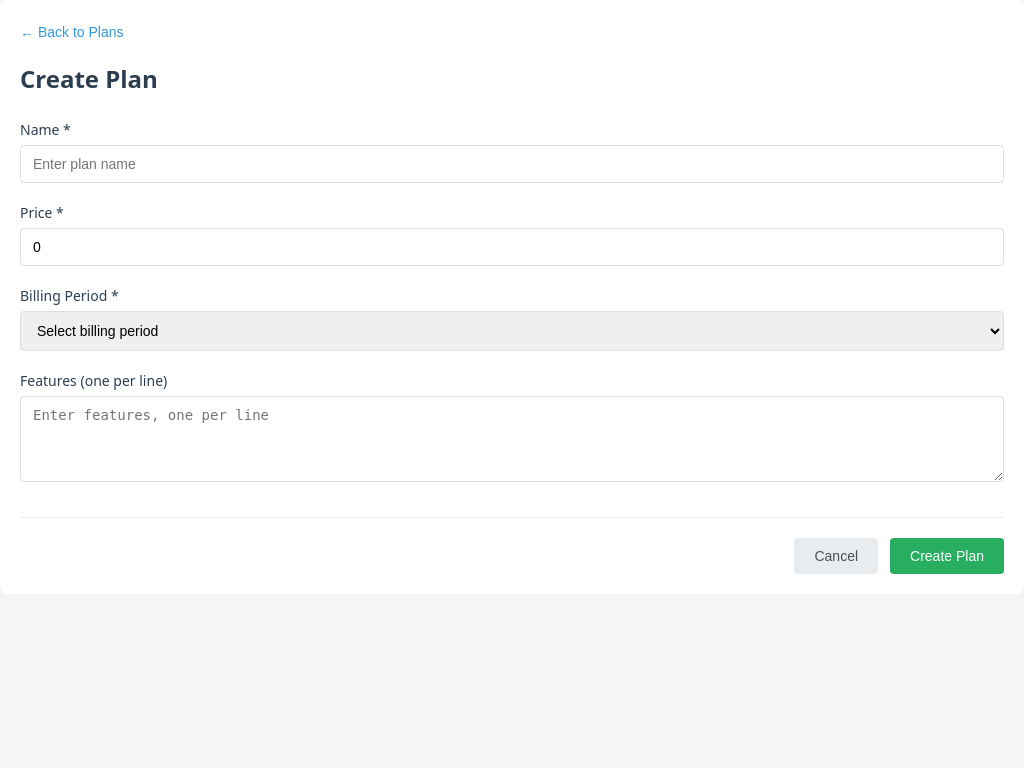
Test case: PlanForm.vue › Common functionality › displays error message on submit failure
Type "New Plan" into the field with test id "plan-name" at coordinates (512, 164), box 20,145 -> 1004,183
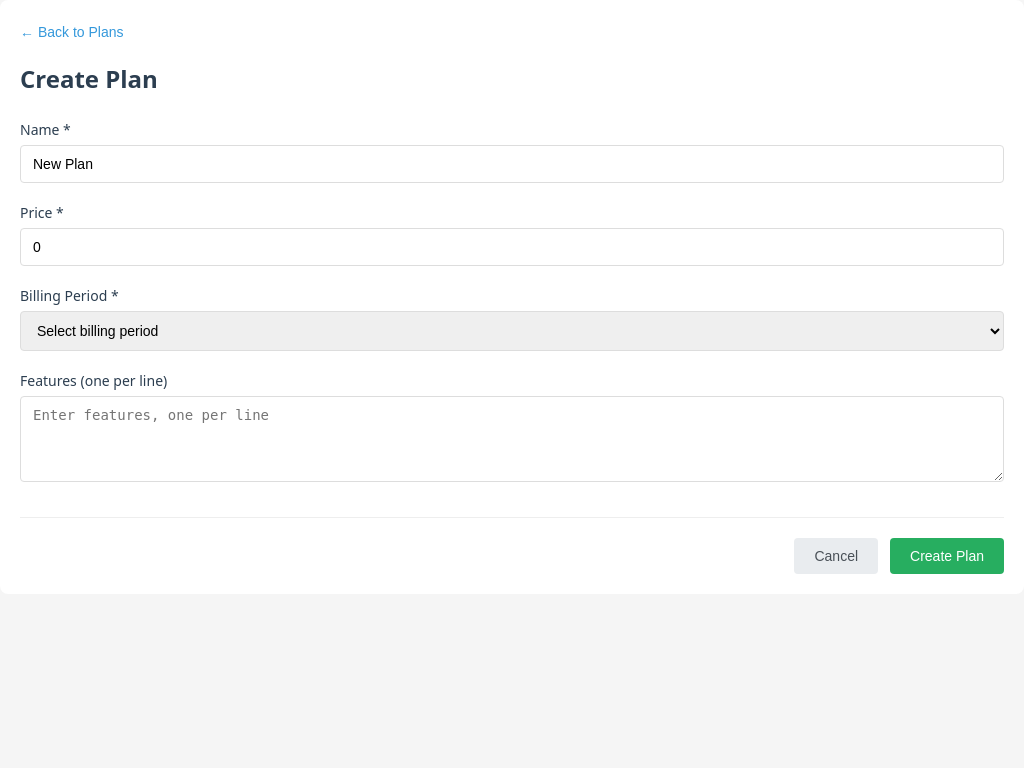
Replace the text in the number field with test id "plan-price" with "19.99" at coordinates (512, 247), box 20,228 -> 1004,266
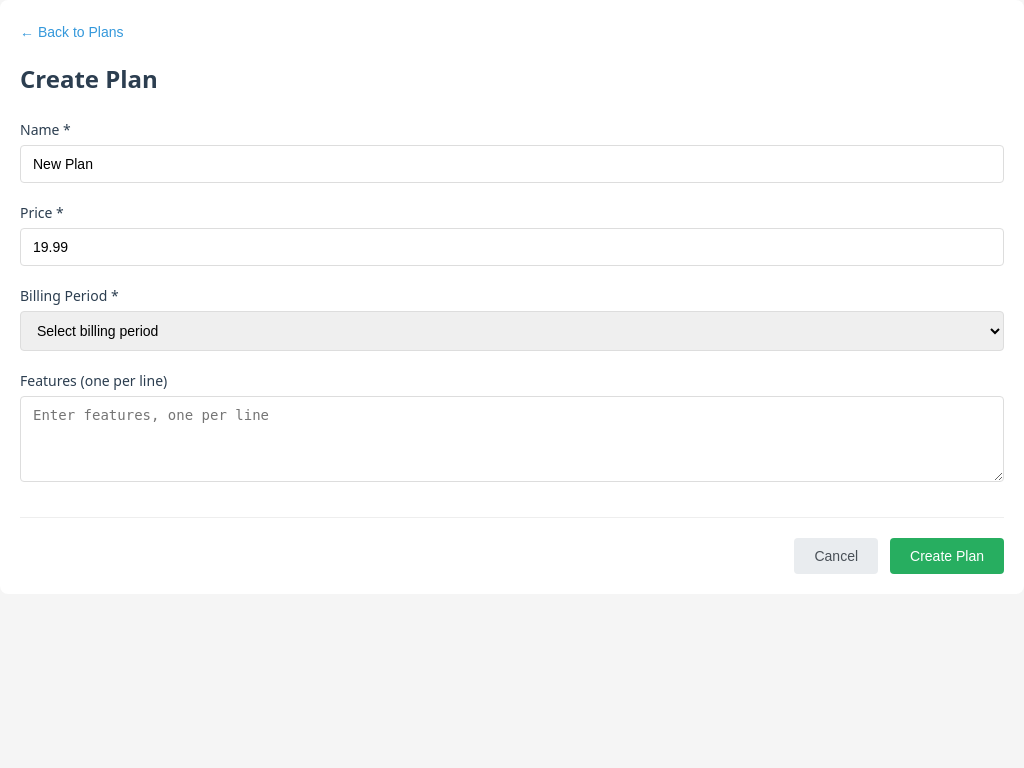
Select "Monthly" in the dropdown with test id "plan-billing" at coordinates (512, 331), box 20,311 -> 1004,351
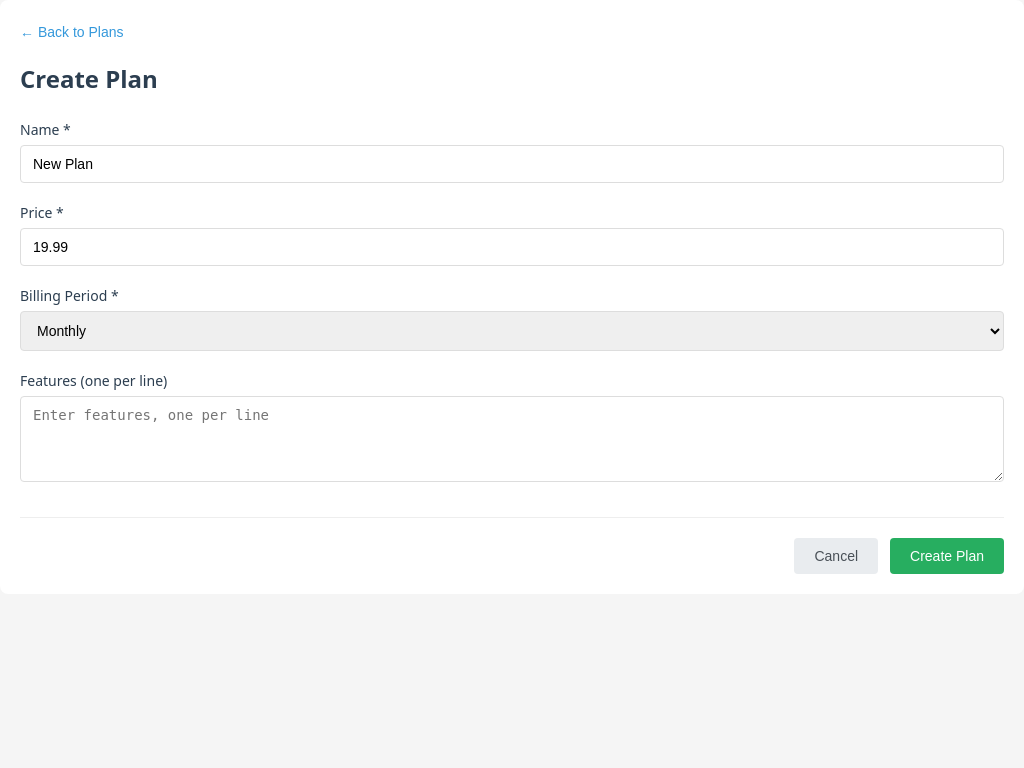
Click the button with test id "submit-button" at coordinates (947, 556), box 890,538 -> 1004,574
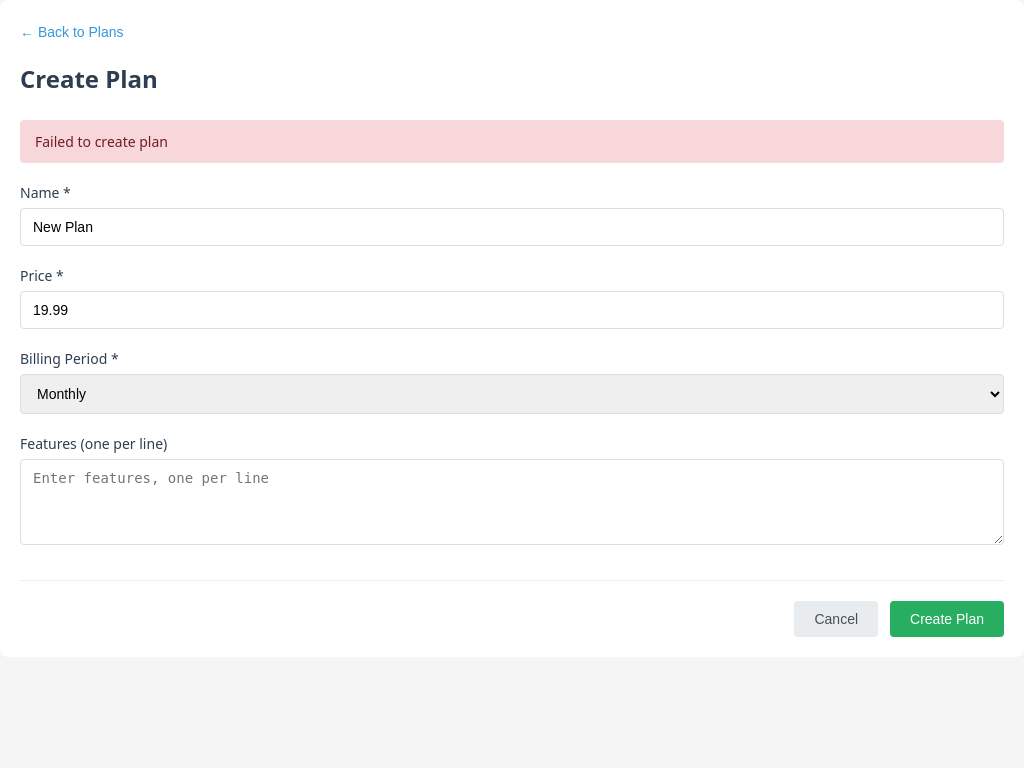
Result: the text "Failed to create plan" is shown at 20,120 -> 1004,163
